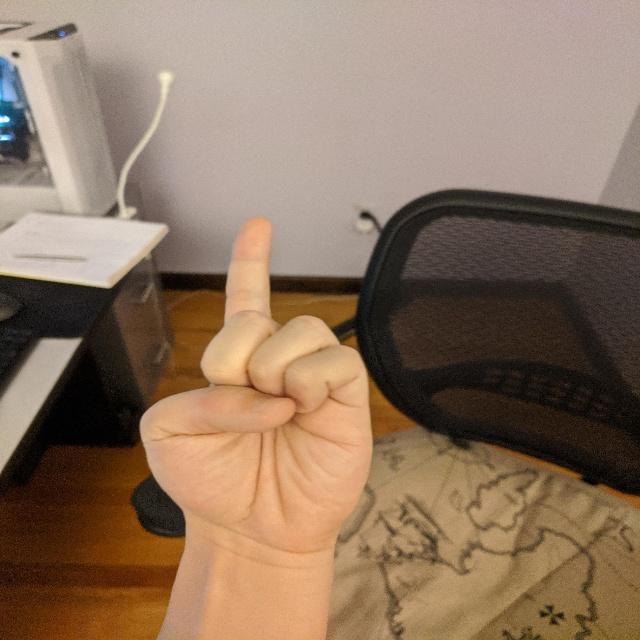D: (132, 211, 388, 557)
